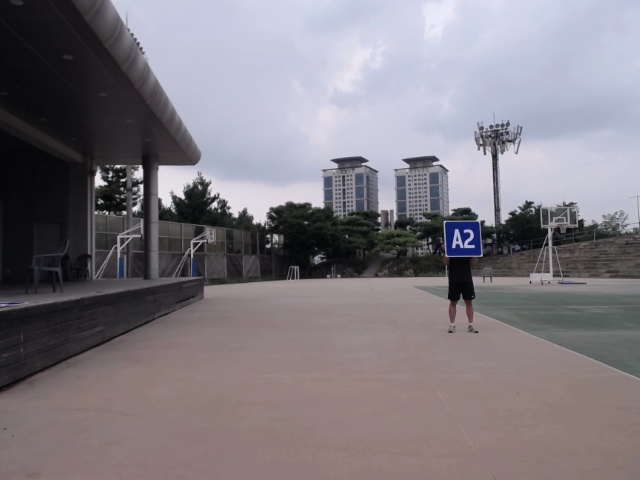delivery_a2: (444, 221, 483, 256)
